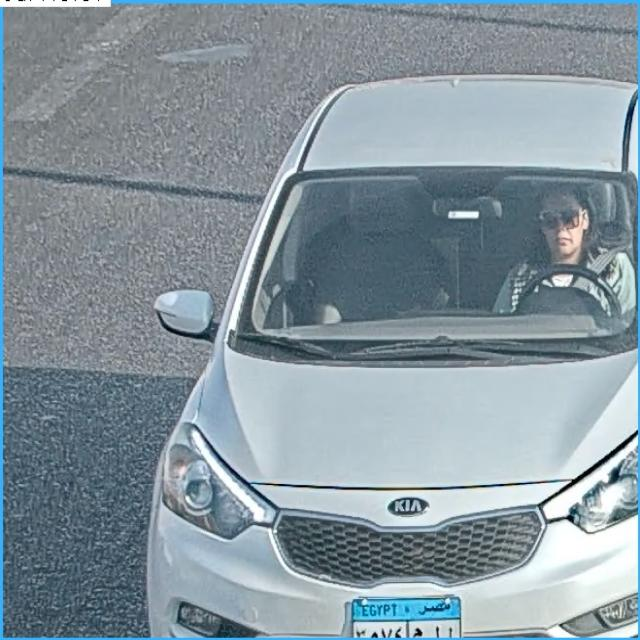windshield: (235, 173, 634, 343)
